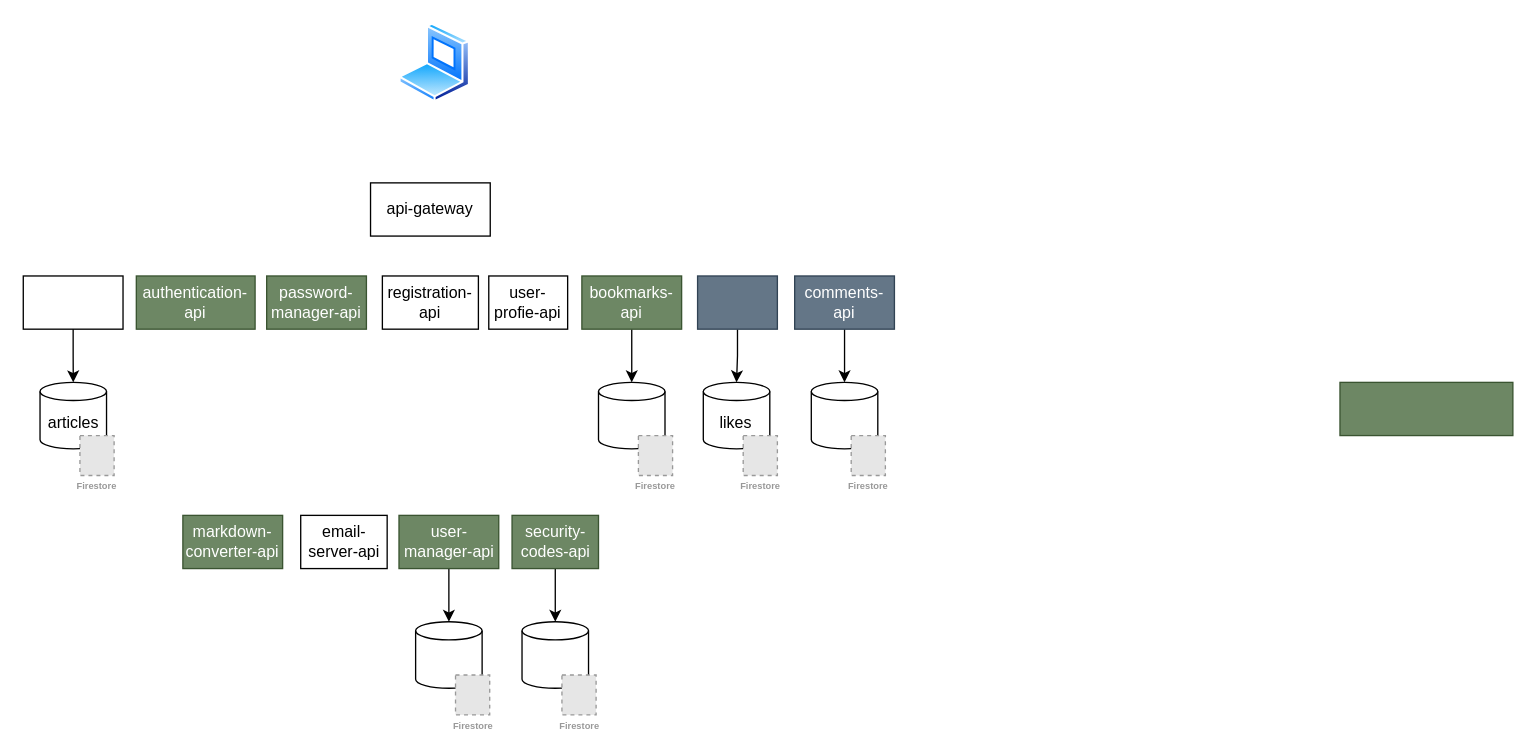
The diagram is 1536 pixels wide and 755 high, and some of its shapes have lost their labels. Grey dashed boxes stand in for pictures. The box of each missing label's shape, as (x1, y1, x2, y2) in pixels:
articles-manager-api: (22, 275, 123, 329)
bookmarks: (597, 381, 665, 449)
client - downcast-webapp: (398, 23, 470, 102)
comments: (810, 381, 878, 449)
likes-api: (696, 275, 777, 329)
security-codes: (521, 620, 589, 688)
session-manager-api: (1339, 381, 1513, 436)
Users: (414, 620, 482, 688)
